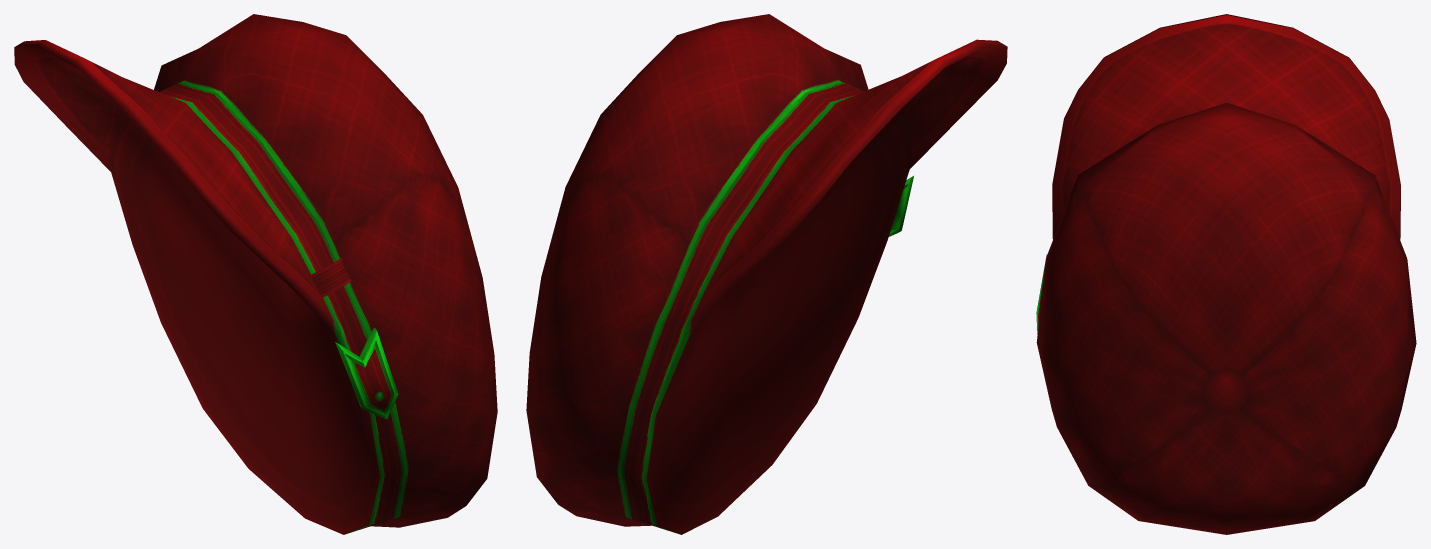
3 renders of one model, left to right at view 1: azimuth 30°, elevation 25°; view 2: azimuth 150°, elevation 25°; view 3: azimuth 270°, elevation 25°, orthographic. The views are drawn at different scales.
Parts seen in each view (by area): view 1: K1127; view 2: K1127; view 3: K1127.
Boxes of the visible parts, <box> form: K1127: <box>14,14,497,534</box>; K1127: <box>526,14,1007,534</box>; K1127: <box>1036,14,1416,534</box>.
Bounding box in the file's own units: 0.5149 × 0.6729 × 0.5719.
